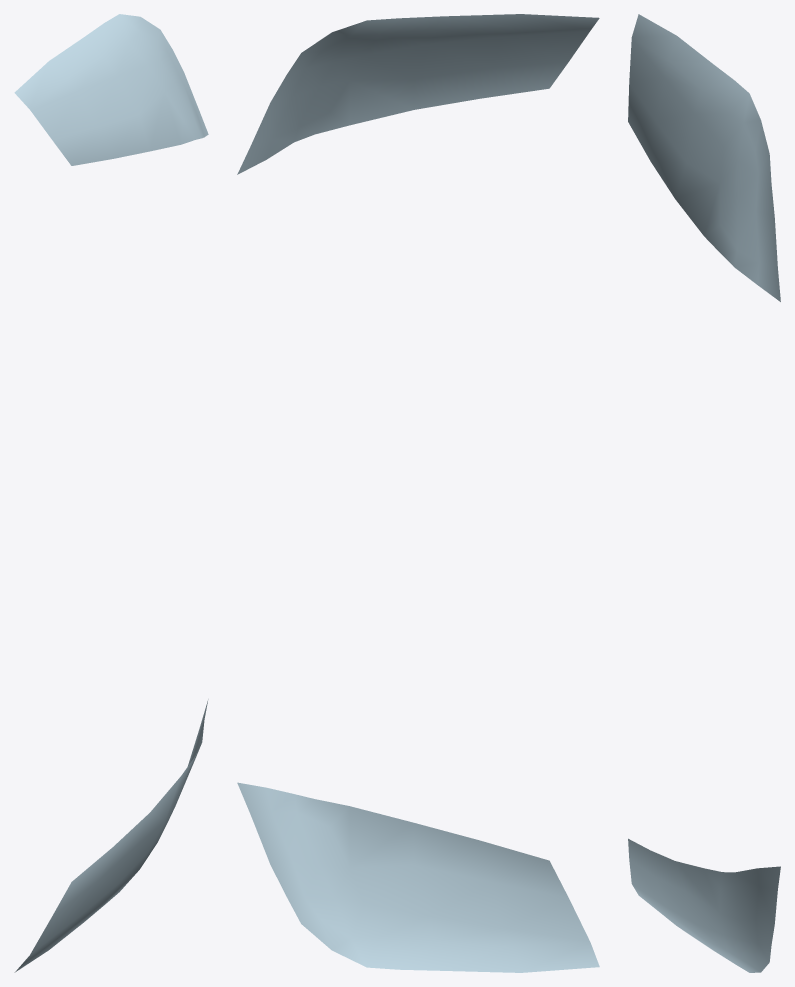
Rendered from frontLights.glb.
The picture shows the model from 3 angles, left to right: view 1: azimuth 30°, elevation 25°; view 2: azimuth 150°, elevation 25°; view 3: azimuth 270°, elevation 25°; orthographic projection. The views are drawn at different scales.
Parts seen in each view (by area): view 1: shadeWhite_003; view 2: shadeWhite_003; view 3: shadeWhite_003.
Part boxes in pixels (bbox=[...]): shadeWhite_003: bbox=[14, 14, 208, 972]; shadeWhite_003: bbox=[237, 14, 599, 972]; shadeWhite_003: bbox=[628, 14, 780, 972].
Bounding box in the file's own units: 4.61 × 14.77 × 2.3.
